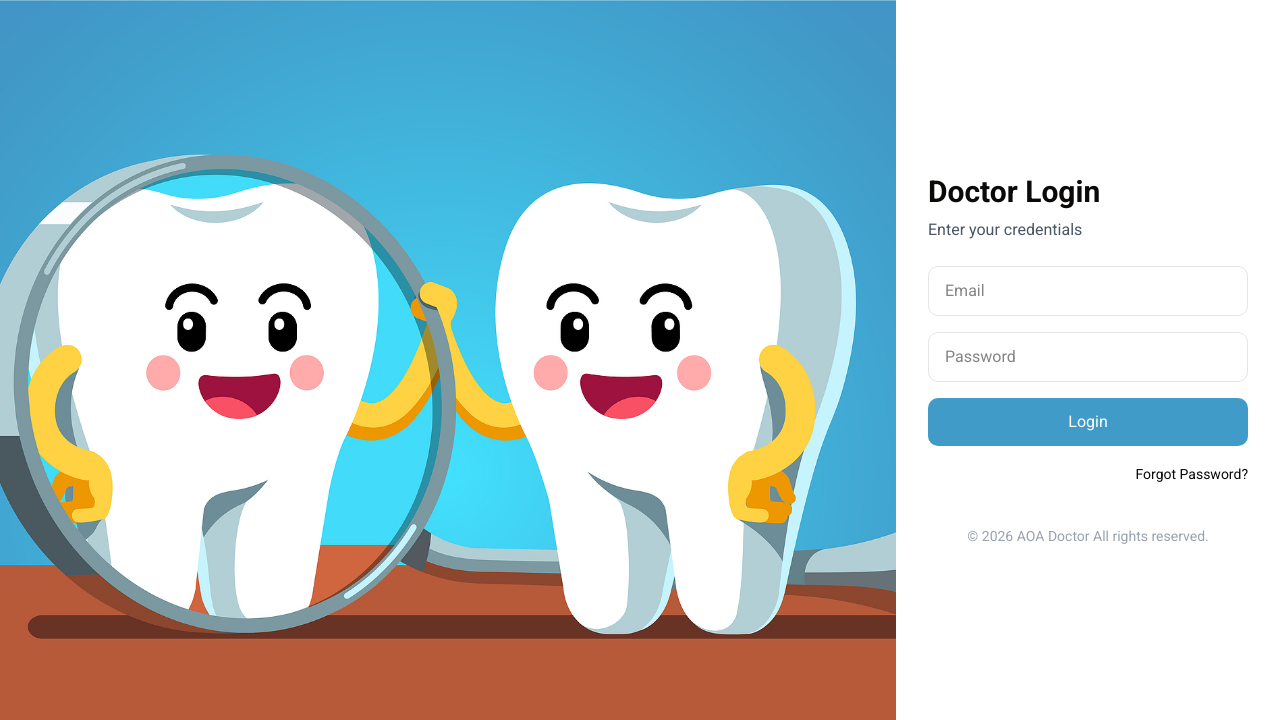
Test: Login Component › shows error for non-Practice/Team Member users
Type "patient@test.com" into the field with placeholder "Email".
click(1088, 291); type("patient@test.com")  # box [928,266,1248,316]
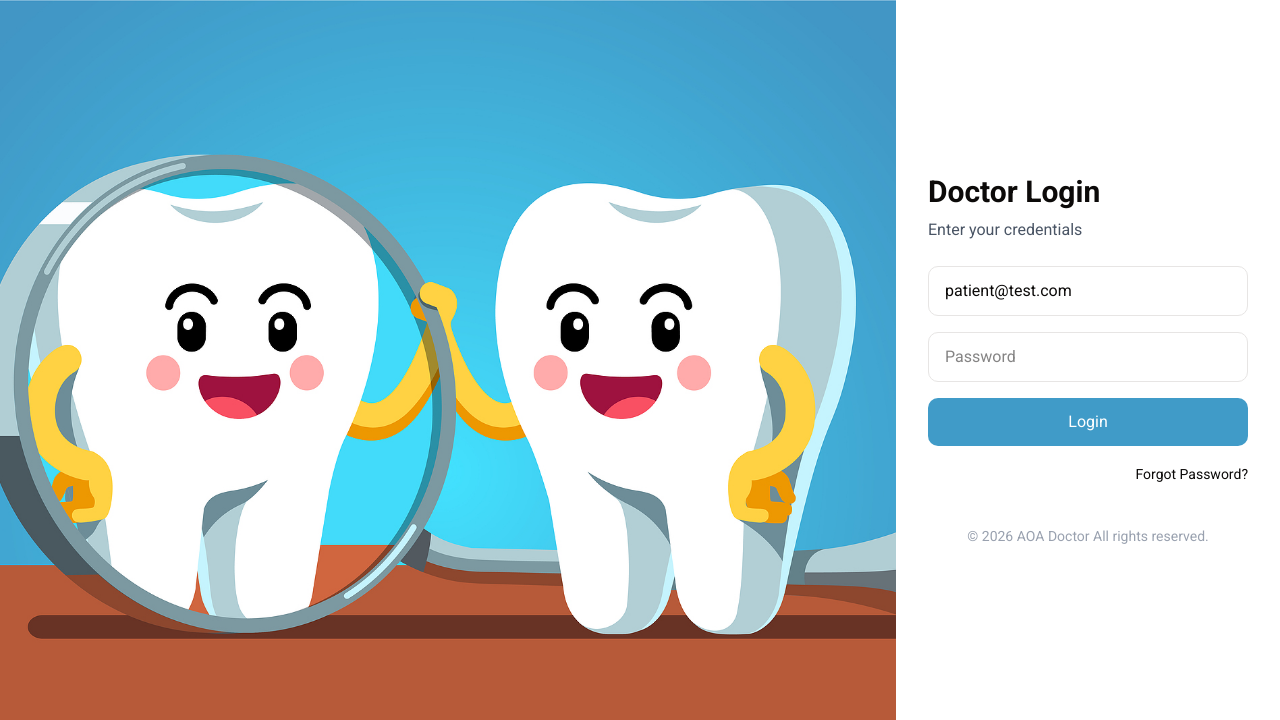
Type "password123" into the password field with placeholder "Password".
click(1088, 357); type("password123")  # box [928,332,1248,382]
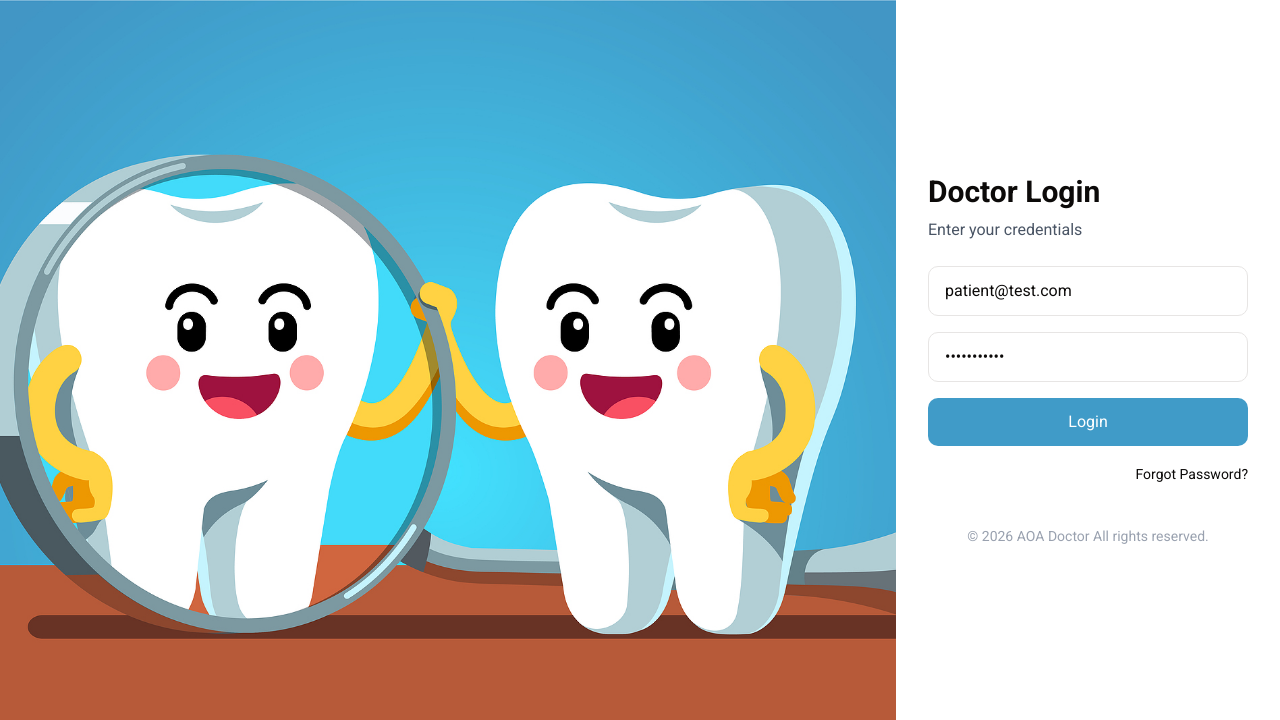
Click the button "Login".
click(1088, 422)  # box [928,398,1248,446]
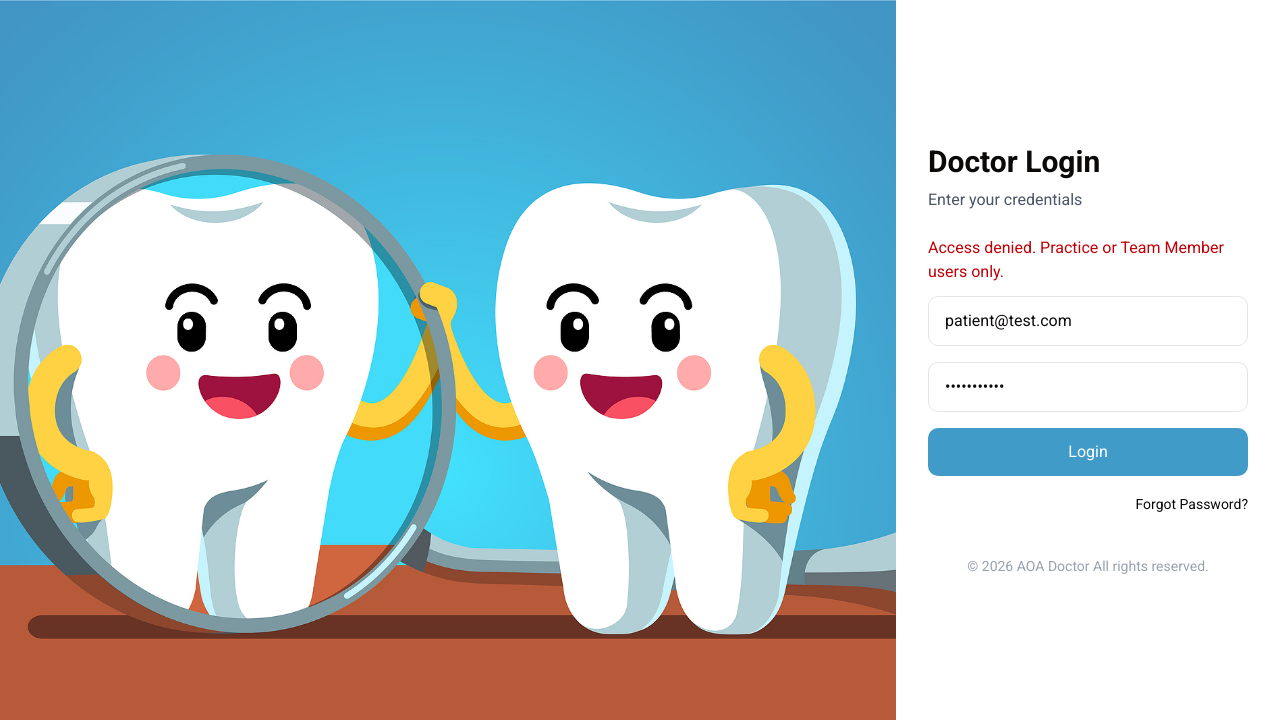
Check: the text "Access denied. Practice or Team Member users only." is shown, box [928,236,1248,284]
